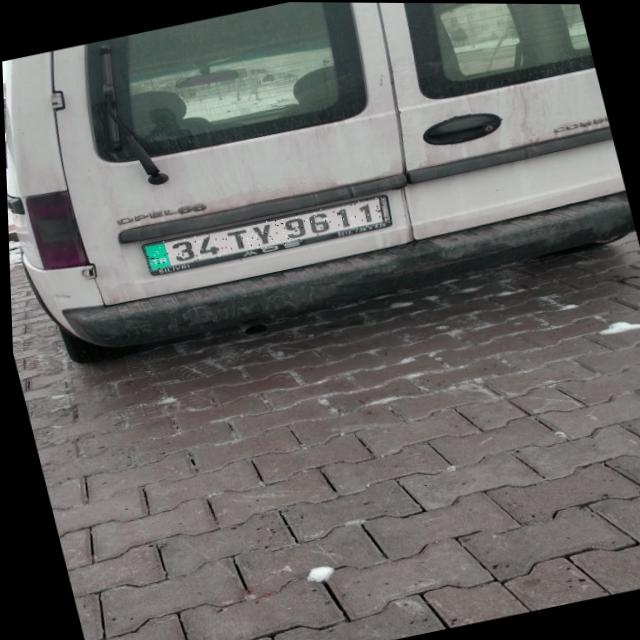license_plate: (139, 193, 389, 273)
